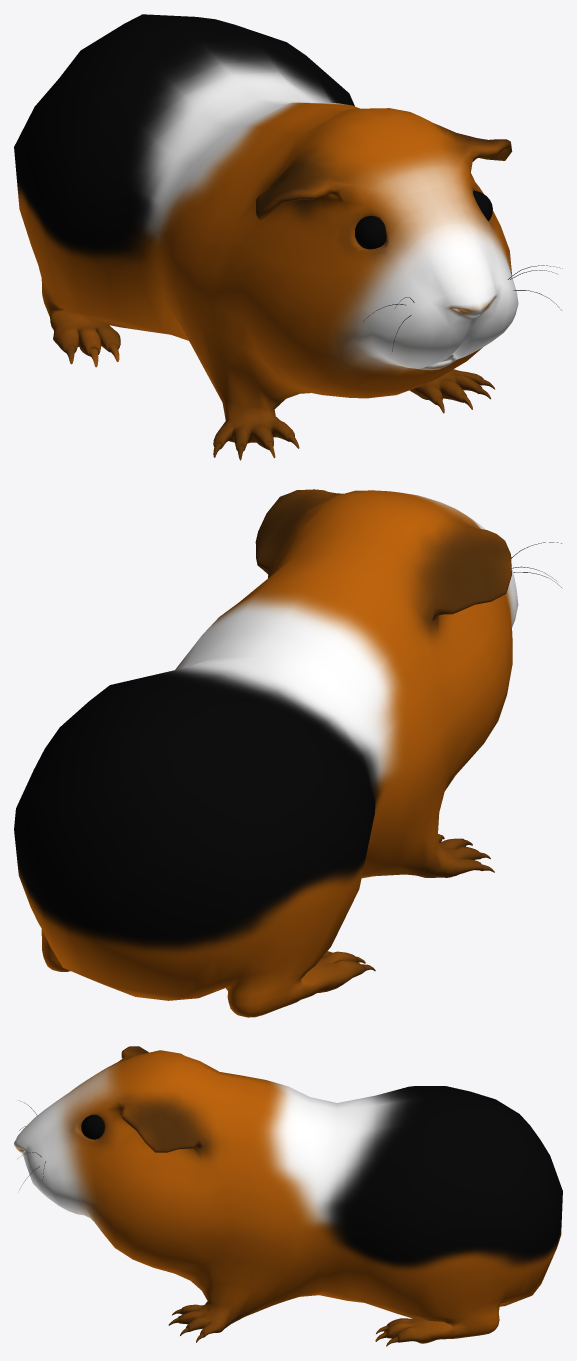
The model's file is guineapig.glb.
3 views of the same model, one above another, from view 1: azimuth 30°, elevation 25°; view 2: azimuth 150°, elevation 25°; view 3: azimuth 270°, elevation 25° (orthographic). The views are drawn at different scales.
Parts seen in each view (by area): view 1: GuinePig_obj; view 2: GuinePig_obj; view 3: GuinePig_obj.
Boxes of the visible parts, <box> form: GuinePig_obj: <box>14,14,562,460</box>; GuinePig_obj: <box>14,489,561,1017</box>; GuinePig_obj: <box>14,1046,562,1346</box>.
Bounding box in the file's own units: 0.4547 × 0.4657 × 0.966.
Materials: 4 (1 with a texture image).
